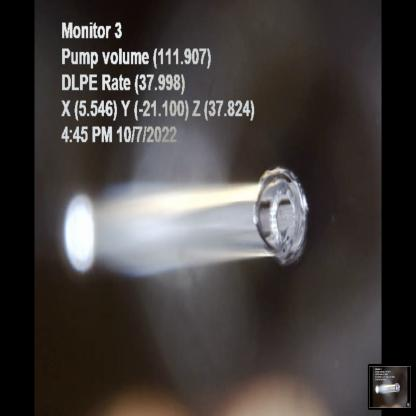Droplet: (254, 168, 311, 270)
